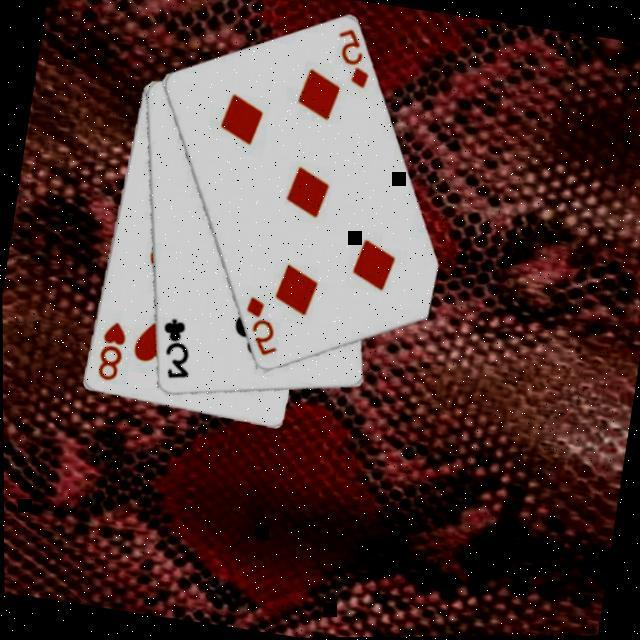3C: (150, 312, 197, 382)
5D: (235, 290, 286, 360), (326, 23, 377, 91)
8H: (90, 315, 130, 383)
